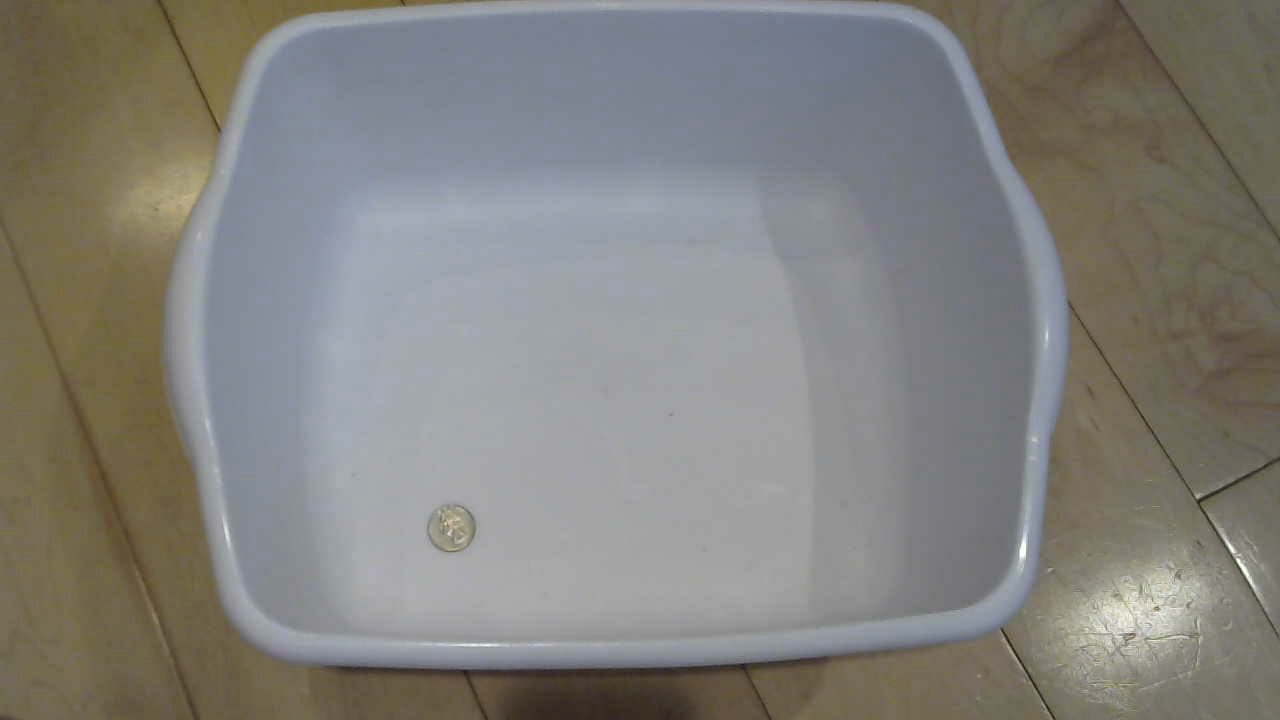coin: (415, 497, 495, 559)
